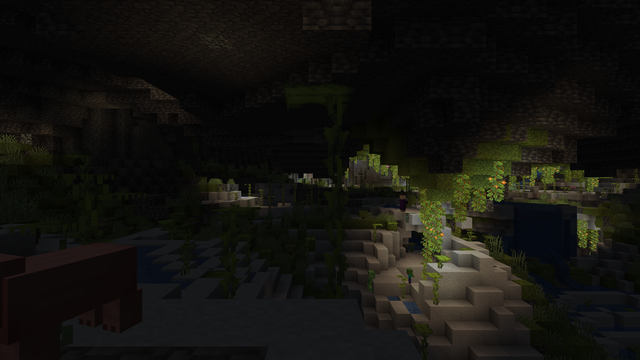cochons: (6, 242, 140, 354)
creepers: (367, 269, 375, 291)
sorcieres: (399, 194, 405, 211)
zombies: (407, 270, 411, 283)
